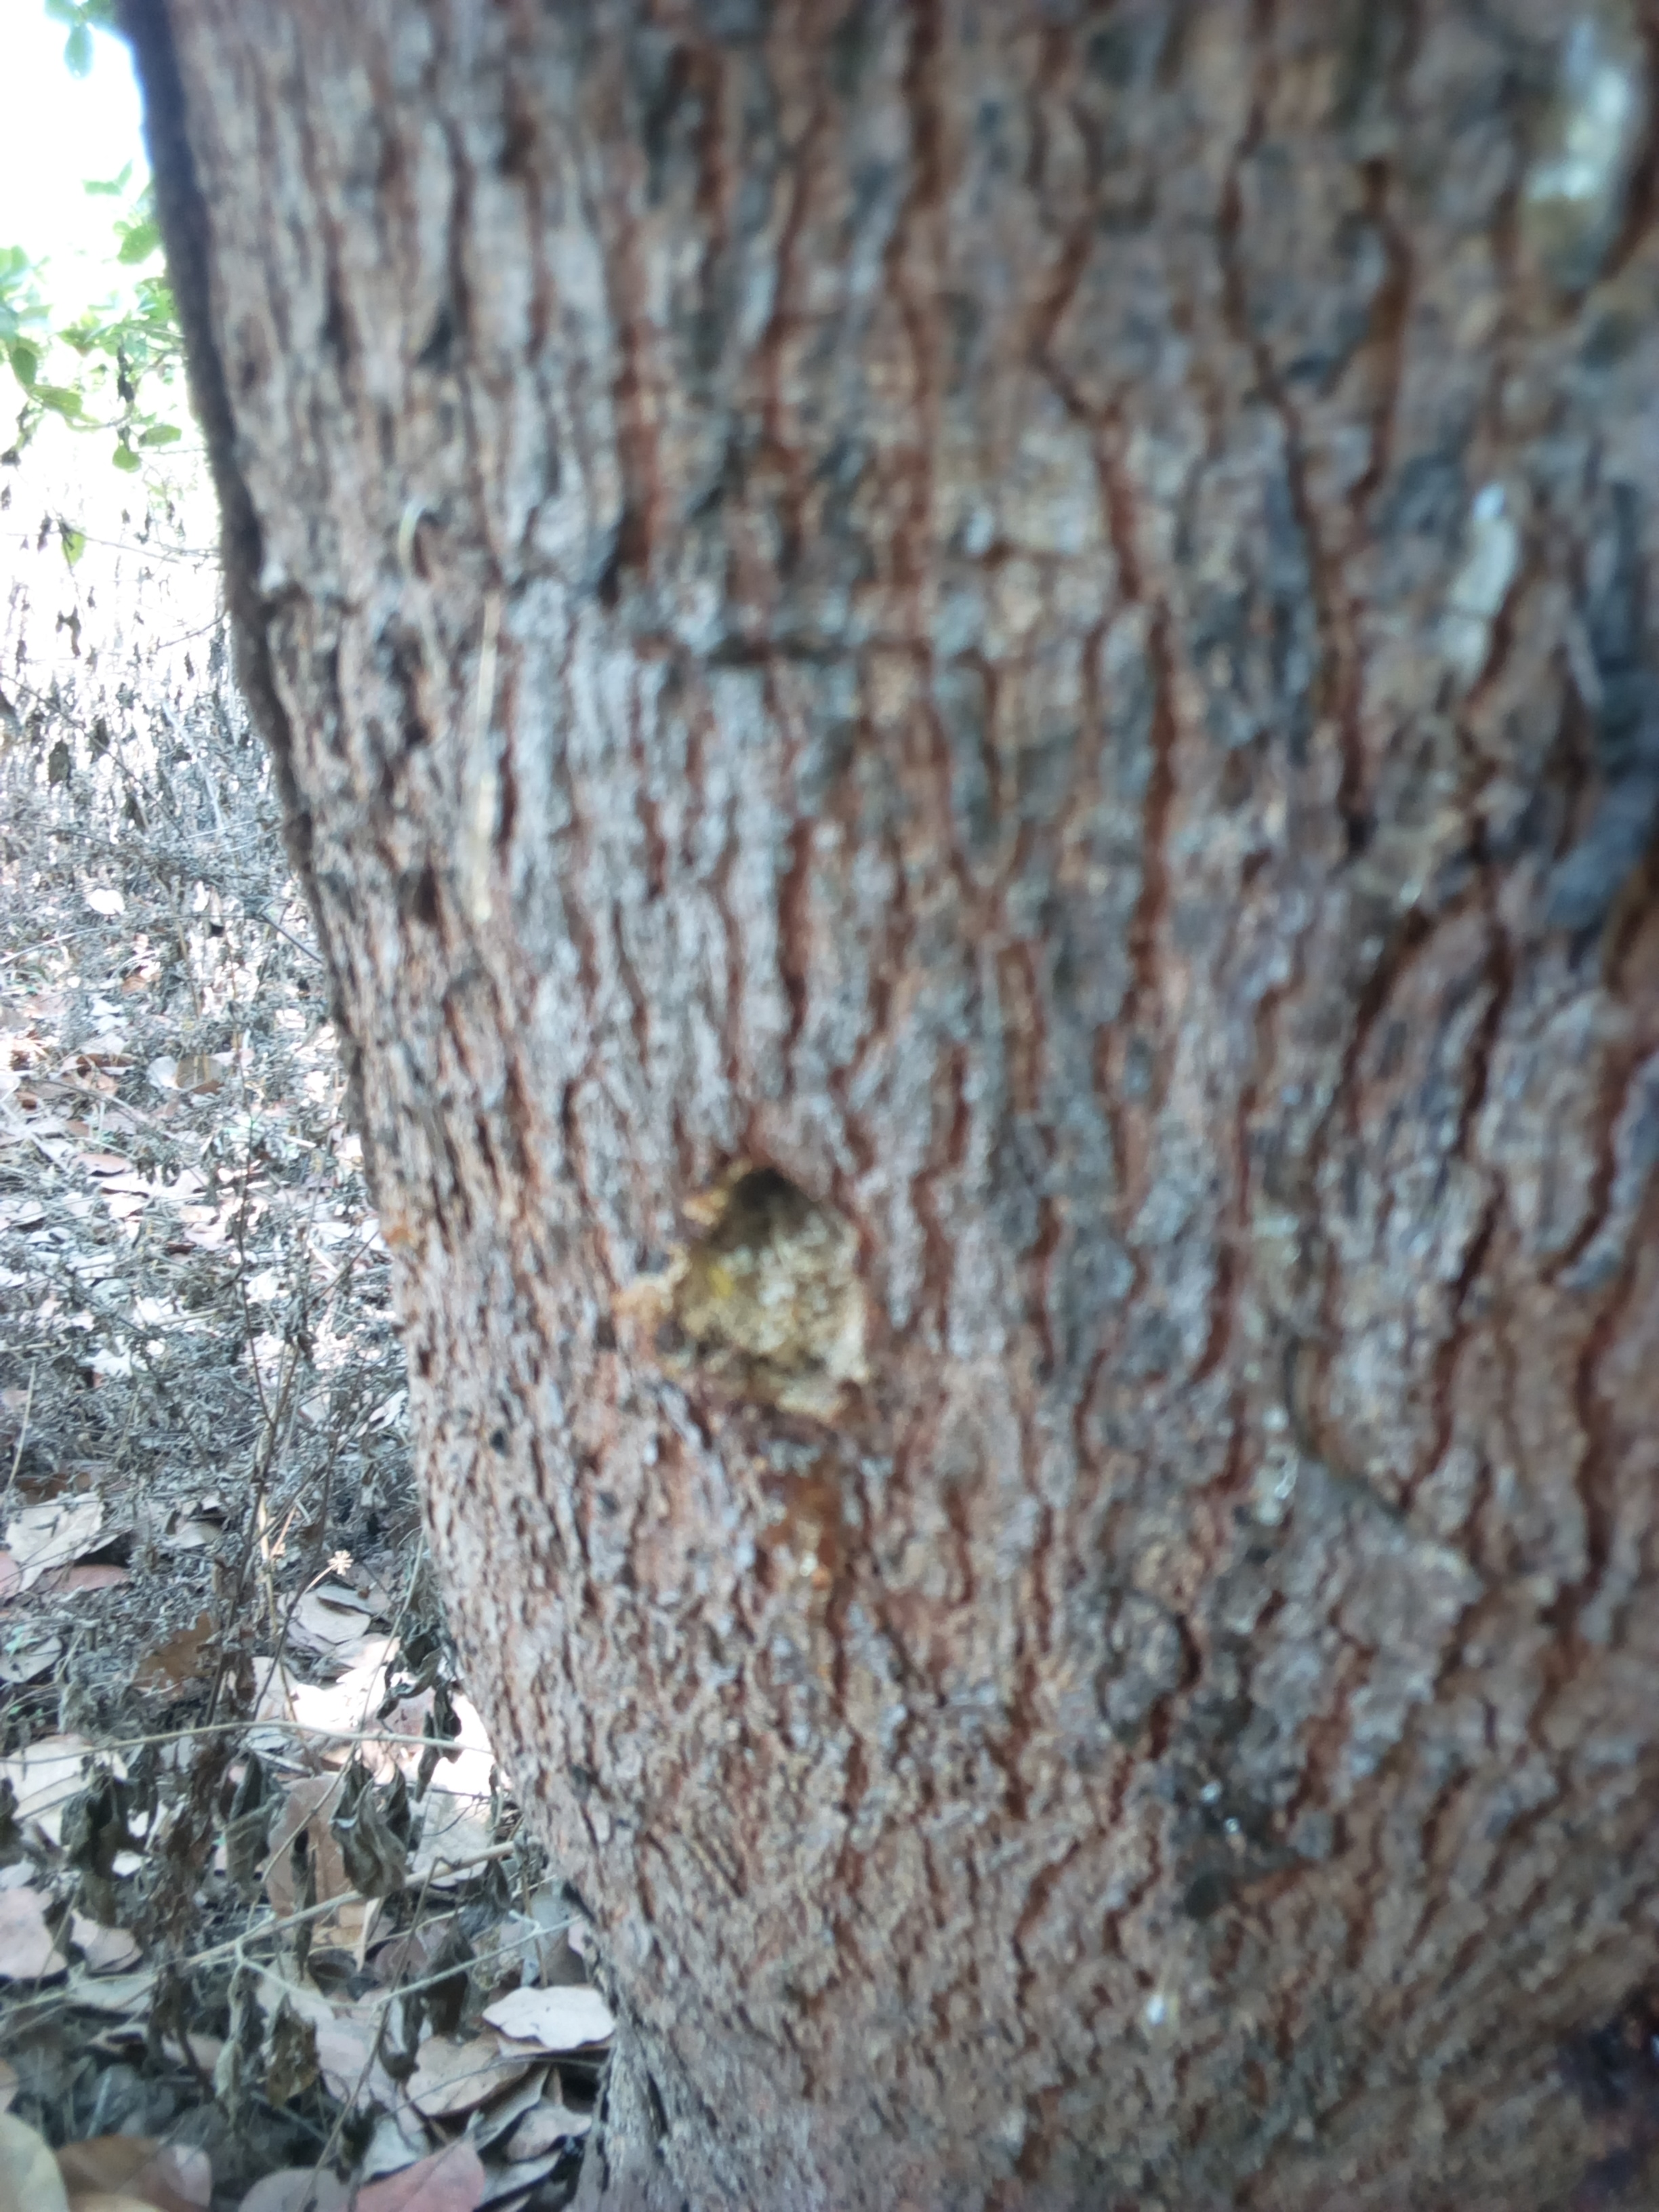Apate terebrans: (617, 1153, 924, 1442)
